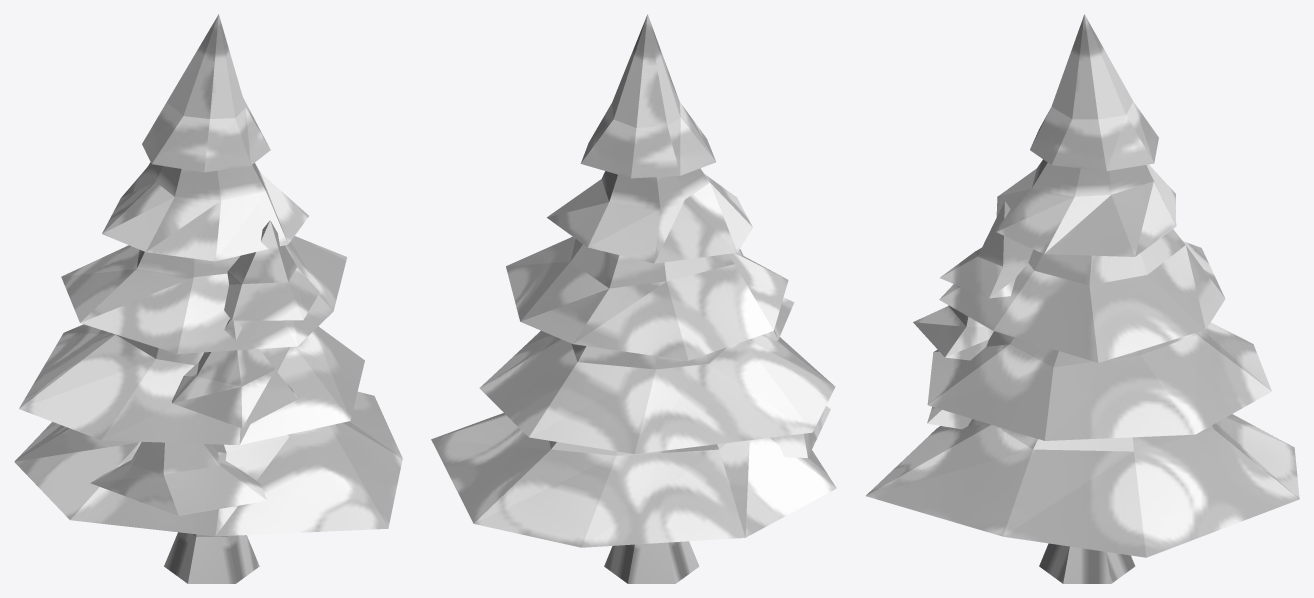
File: tree_pine_1.obj
The picture shows the model from 3 angles, left to right: view 1: azimuth 30°, elevation 25°; view 2: azimuth 150°, elevation 25°; view 3: azimuth 270°, elevation 25°; orthographic projection.
Parts seen in each view (by area): view 1: tree_pine_1; view 2: tree_pine_1; view 3: tree_pine_1.
Part boxes in pixels (x1,y1,x2,y2): tree_pine_1: (14,14,402,583); tree_pine_1: (431,14,836,583); tree_pine_1: (866,14,1299,583).
Size of the model in its own units: 0.7561 by 1.08 by 0.7658.
